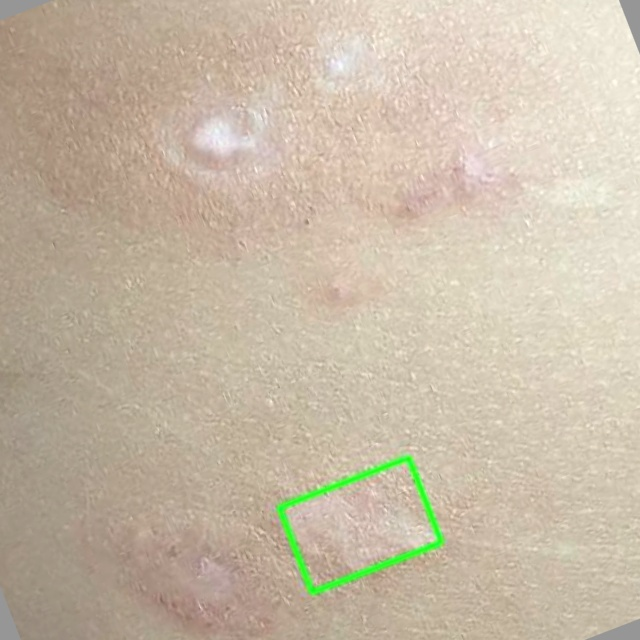Eczema: (279, 457, 441, 592)
